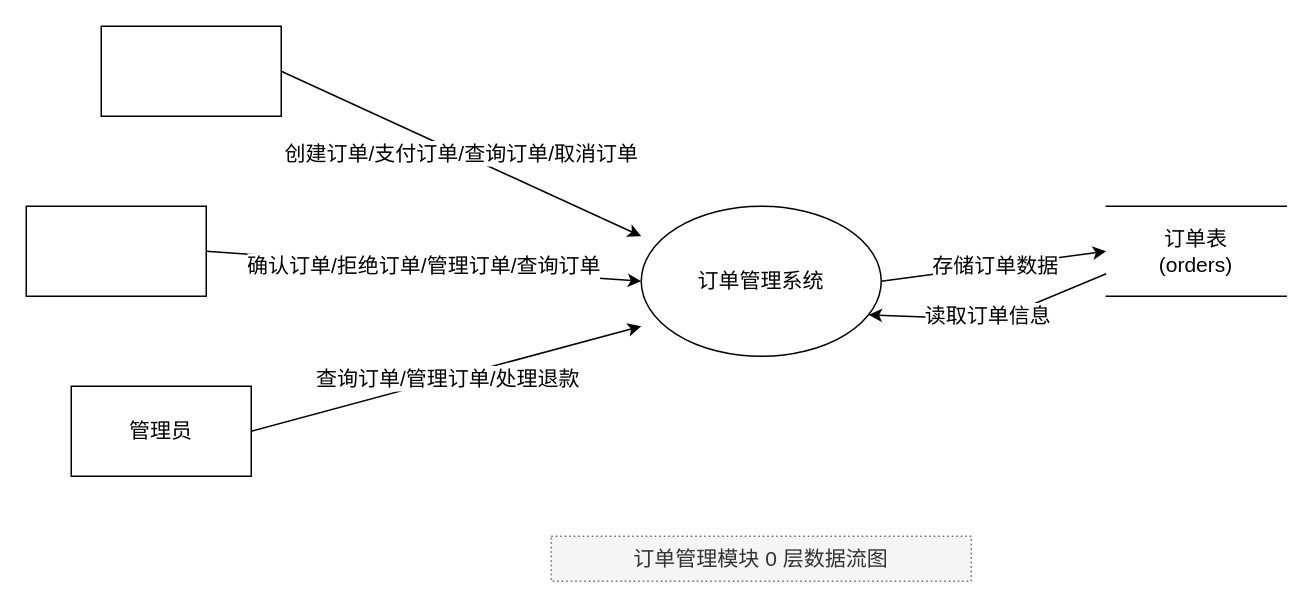
Some shapes in this 1313 by 608 pixel diagram are drawn without their labels. The shapes that lost their labels are listed below. From the top down, each one's centre as x and y in pixels, then its label:
At [190,70]: "普通用户/客户".
At [115,250]: "房东".
